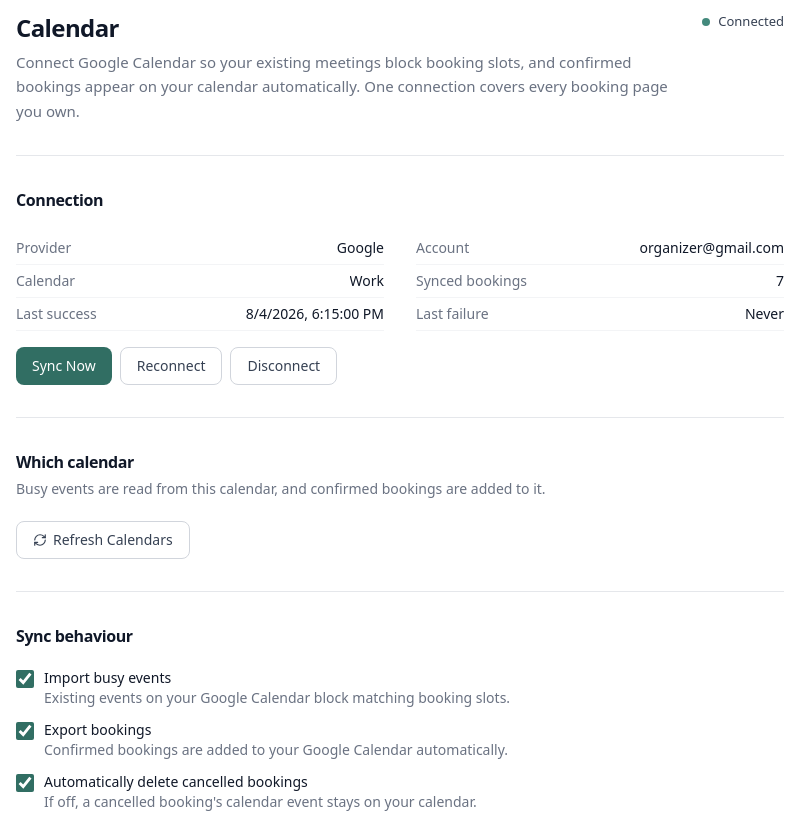
Test: CalendarIntegrationPage › backs out of the disconnect confirmation without disconnecting
Click the button "Disconnect" at (284, 366), box [230,347,337,385]
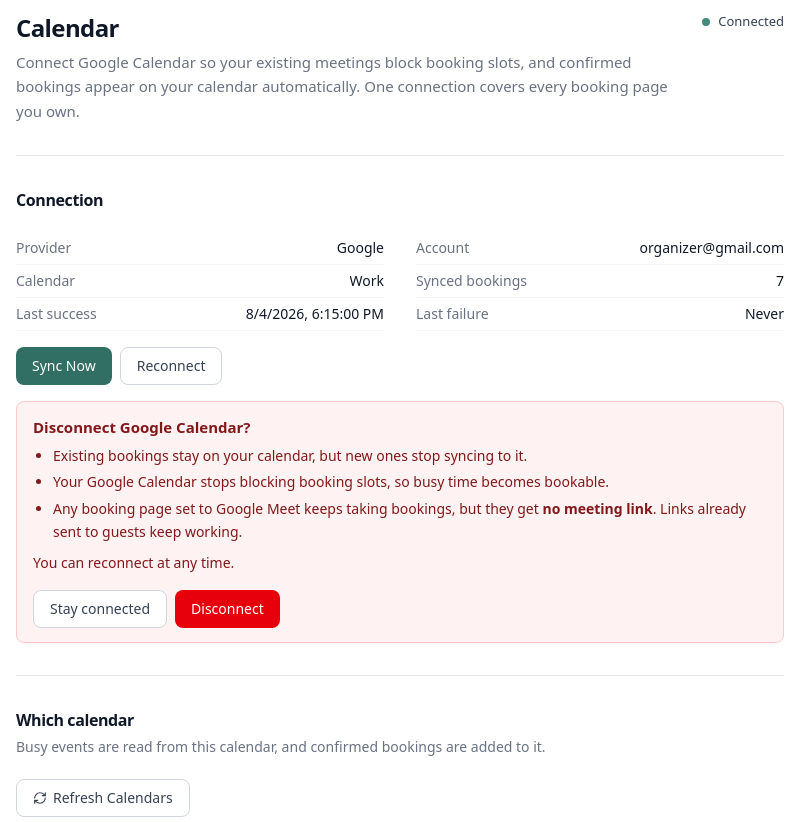
Click the button "Stay connected" at (100, 609), box [33,590,167,628]
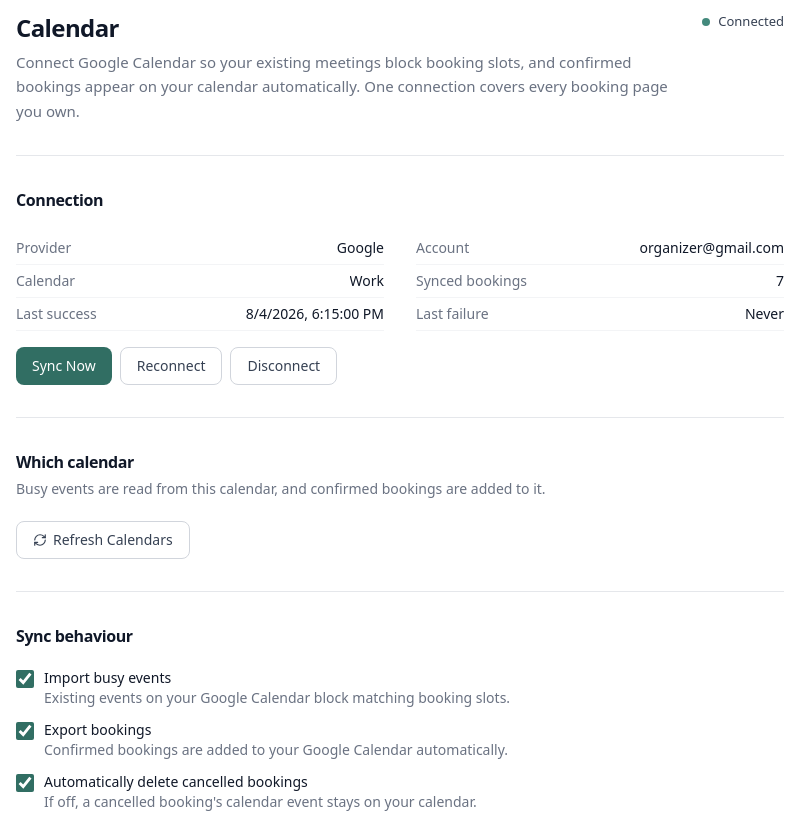
Expected: the text "Disconnect Google Calendar" is gone
